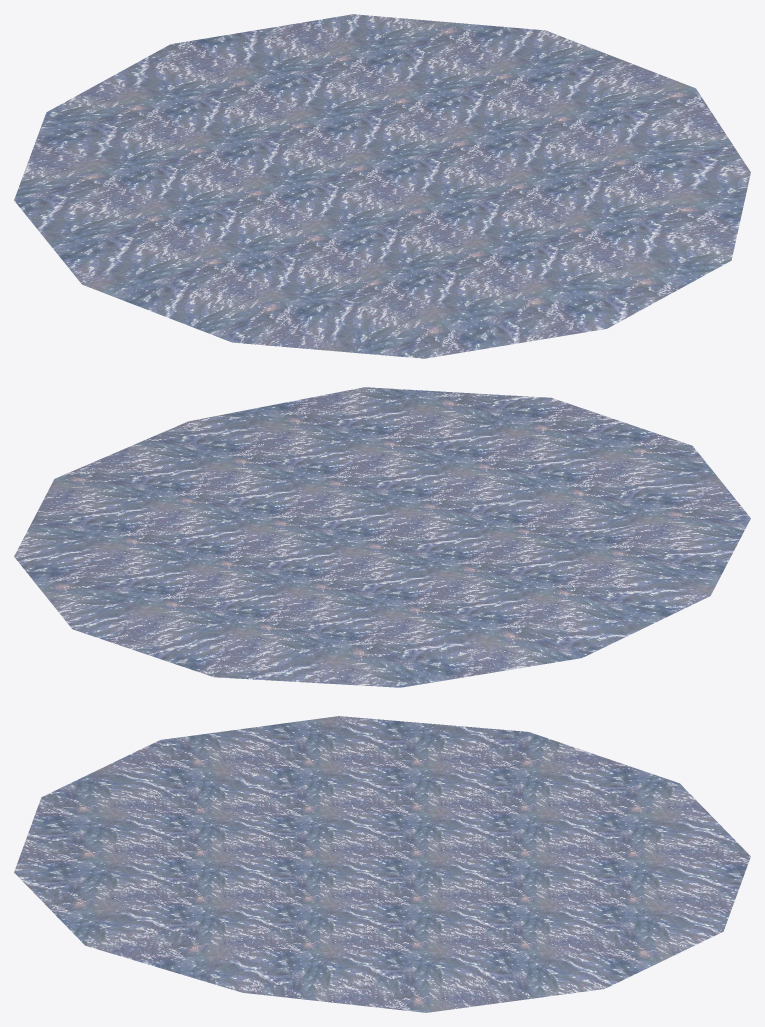
The picture shows the model from 3 angles, top to bottom: view 1: azimuth 30°, elevation 25°; view 2: azimuth 150°, elevation 25°; view 3: azimuth 270°, elevation 25°; orthographic projection. The views are drawn at different scales.
Visible parts, largest first — view 1: Box03; view 2: Box03; view 3: Box03.
Part boxes in pixels (bbox=[...]): Box03: bbox=[14, 14, 750, 358]; Box03: bbox=[14, 387, 750, 687]; Box03: bbox=[14, 716, 750, 1012].
Bounding box in the file's own units: 6492 × 78.41 × 6811.
